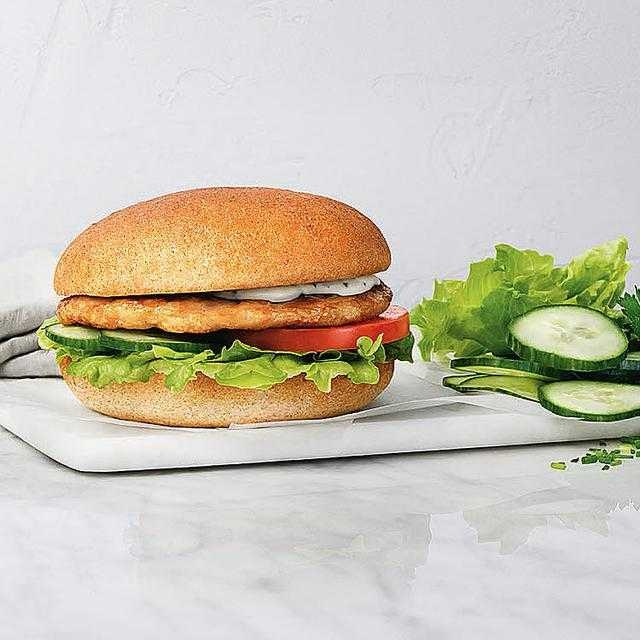hamburger: (49, 190, 391, 418)
